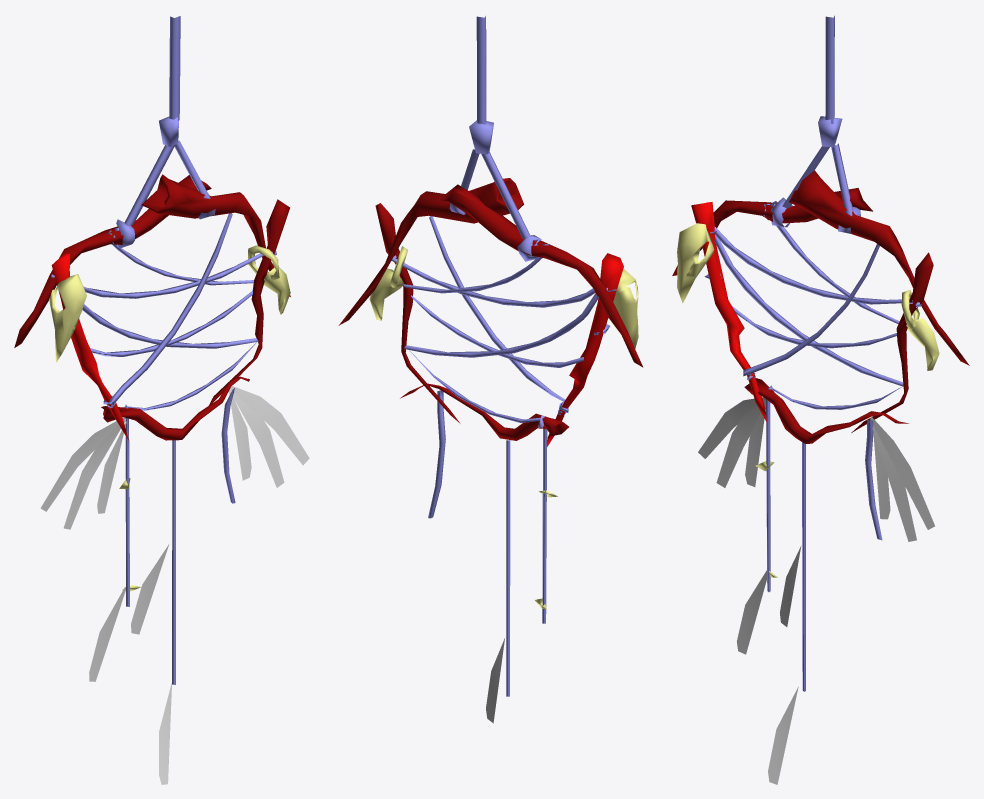
Rendered from dreamcatcher_generic_village_B.gltf.
The picture shows the model from 3 angles, left to right: view 1: azimuth 30°, elevation 25°; view 2: azimuth 150°, elevation 25°; view 3: azimuth 330°, elevation 25°; orthographic projection. The views are drawn at different scales.
Parts seen in each view (by area): view 1: dreamcatcher_generic_village_B; view 2: dreamcatcher_generic_village_B; view 3: dreamcatcher_generic_village_B.
Boxes of the visible parts, x1,y1,x2,y2 form: dreamcatcher_generic_village_B: (14,16,309,784); dreamcatcher_generic_village_B: (338,16,643,723); dreamcatcher_generic_village_B: (672,15,969,784).
Bounding box in the file's own units: 0.8099 × 2.03 × 0.1647.
